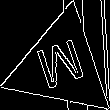M_S: (32, 34, 90, 98)
